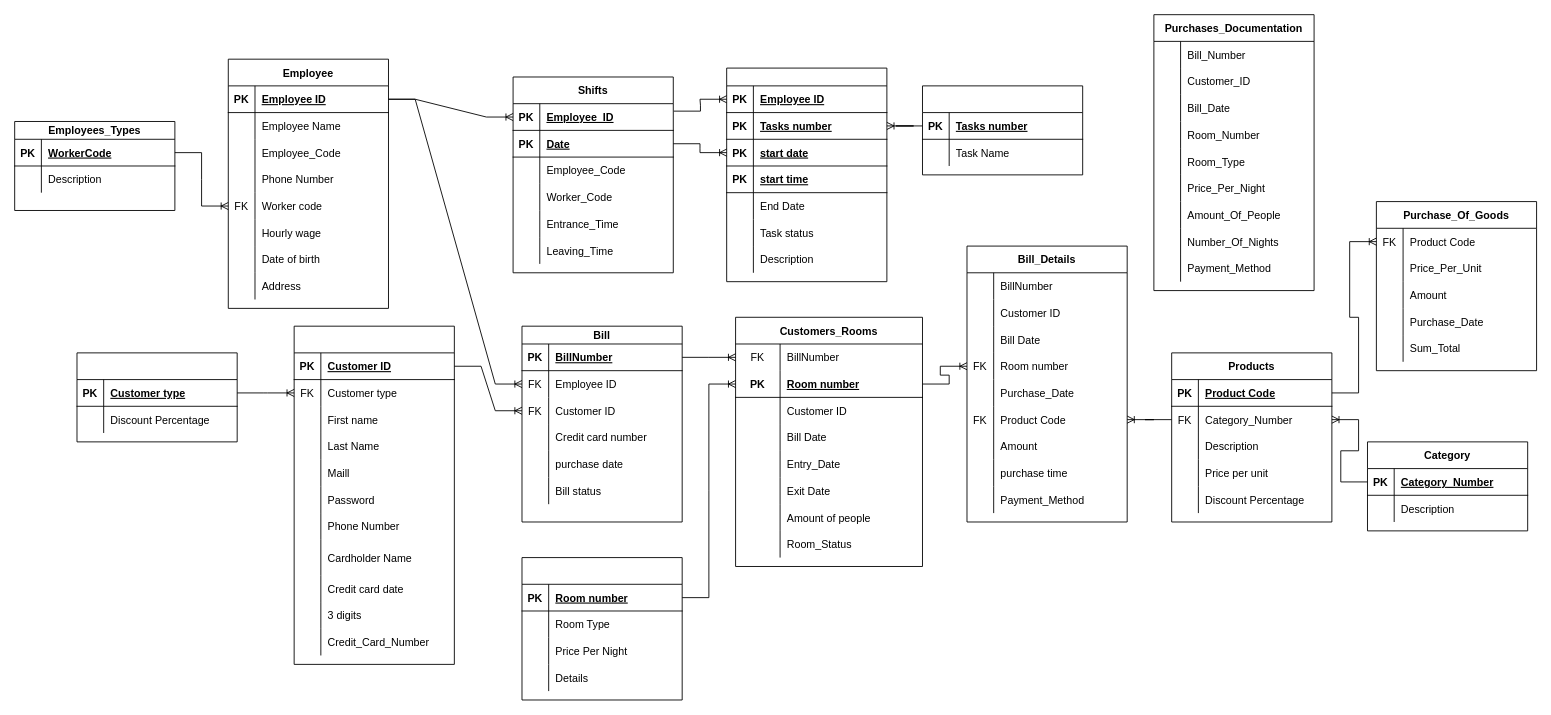
Image size: 1551x715. Some labels were removed from this diagram. Each missing label, with the box of its shape:
Customers: (293, 325, 454, 664)
Customers_Types: (76, 352, 237, 442)
Employee_Task: (726, 67, 887, 282)
Rooms: (521, 557, 682, 700)
Tasks_Types: (922, 85, 1083, 175)
